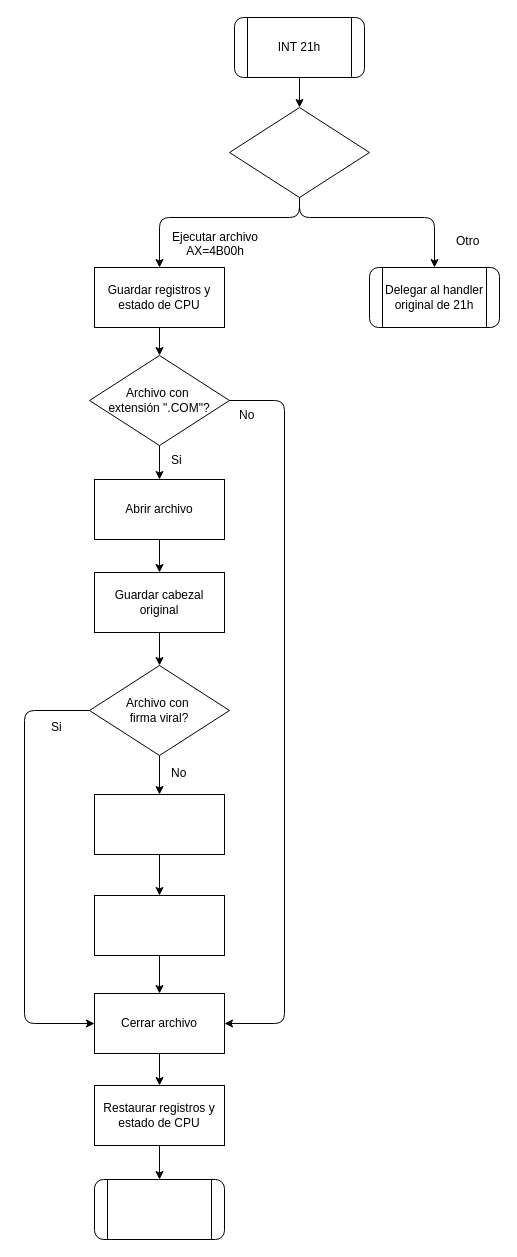
Image size: 517x1257. Some labels were removed from this diagram. The box of each missing label's shape, as (x1, y1, x2, y2) in pixels:
Insertar cabezal viral al principio: (94, 894, 224, 956)
Insertar cuerpo viral al final: (94, 794, 224, 854)
Llamar handler original de 21h: (94, 1178, 224, 1240)
Reconocer servicio invocado...: (228, 106, 370, 198)
